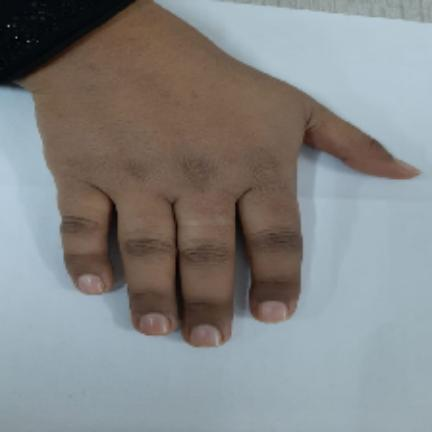Nail: (190, 324, 221, 347), (257, 300, 289, 322), (139, 313, 170, 335), (78, 273, 104, 294), (395, 159, 420, 172)
